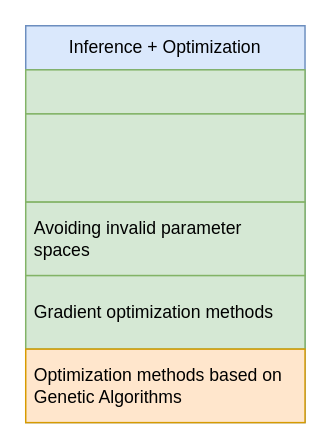
Some shapes in this 331 by 448 pixel diagram are drawn without their labels. The centre of each missing label's shape, as x and y in pixels:
Automatic parametrization of the input space: (x=164, y=91)
Optimization of the input space with respect to the output metric: (x=164, y=157)
